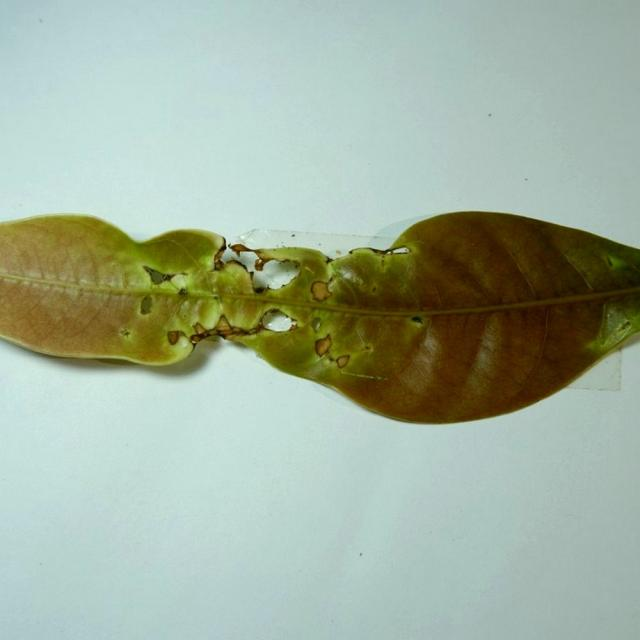Anthracnose: (566, 348, 623, 390), (249, 257, 298, 292), (604, 251, 638, 285), (257, 308, 295, 333), (308, 278, 331, 307), (142, 265, 171, 285), (314, 337, 332, 358), (170, 273, 188, 291), (613, 317, 630, 336), (191, 326, 211, 342), (214, 315, 231, 333), (139, 294, 153, 315), (335, 355, 350, 369), (167, 330, 180, 346), (230, 244, 250, 254), (310, 317, 322, 332), (410, 315, 424, 325), (373, 248, 390, 256), (118, 328, 131, 338), (255, 259, 265, 271), (214, 258, 224, 270), (370, 285, 377, 293), (365, 343, 372, 351), (487, 113, 492, 117)
Mango: (0, 213, 639, 428)
